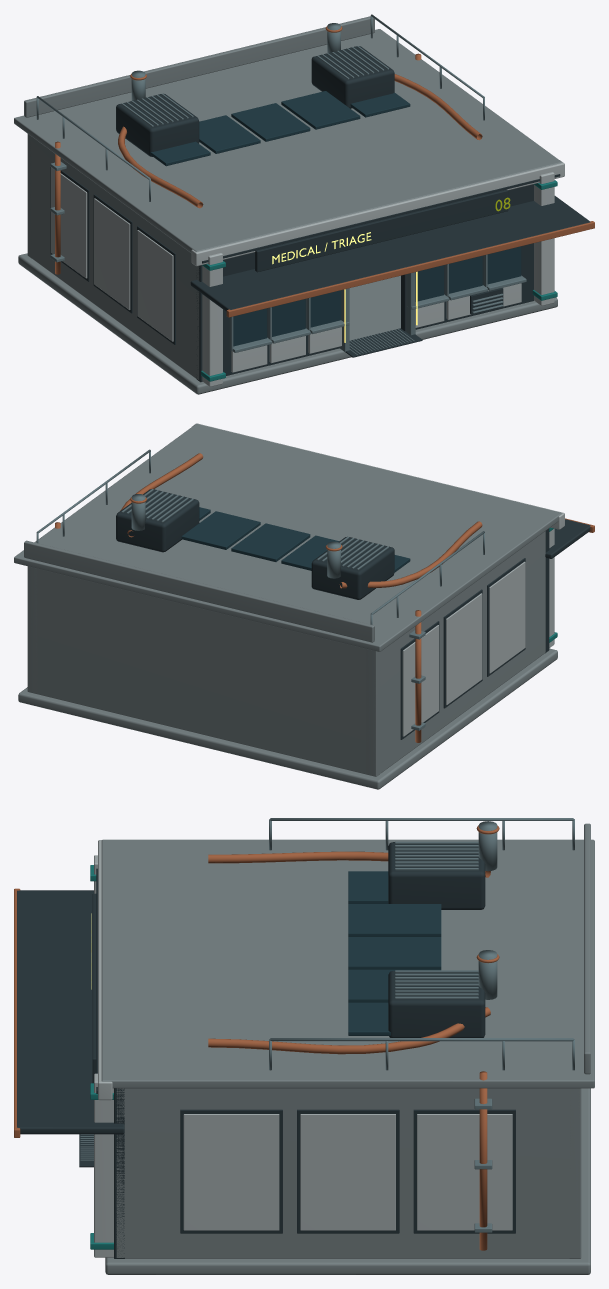
File: clinic.glb
3 renders of one model, top to bottom at view 1: azimuth 30°, elevation 25°; view 2: azimuth 150°, elevation 25°; view 3: azimuth 270°, elevation 25°, orthographic. The views are drawn at different scales.
Visible parts, largest first — view 1: clinic; view 2: clinic; view 3: clinic.
Part boxes in pixels (bbox=[...]): clinic: bbox=[14, 14, 594, 394]; clinic: bbox=[14, 423, 594, 789]; clinic: bbox=[14, 818, 594, 1274].
Size of the model in its own units: 14.81 by 7.6 by 14.95.
